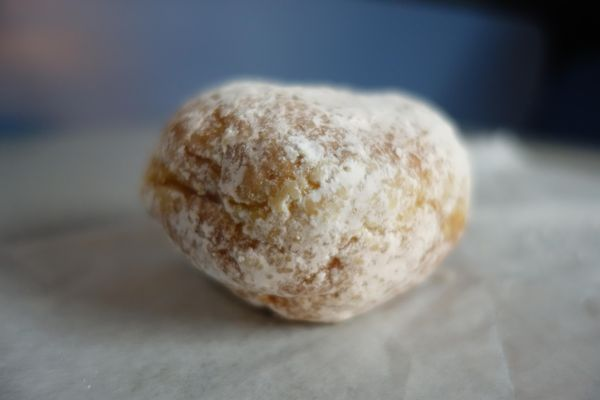salad: (140, 82, 472, 324)
